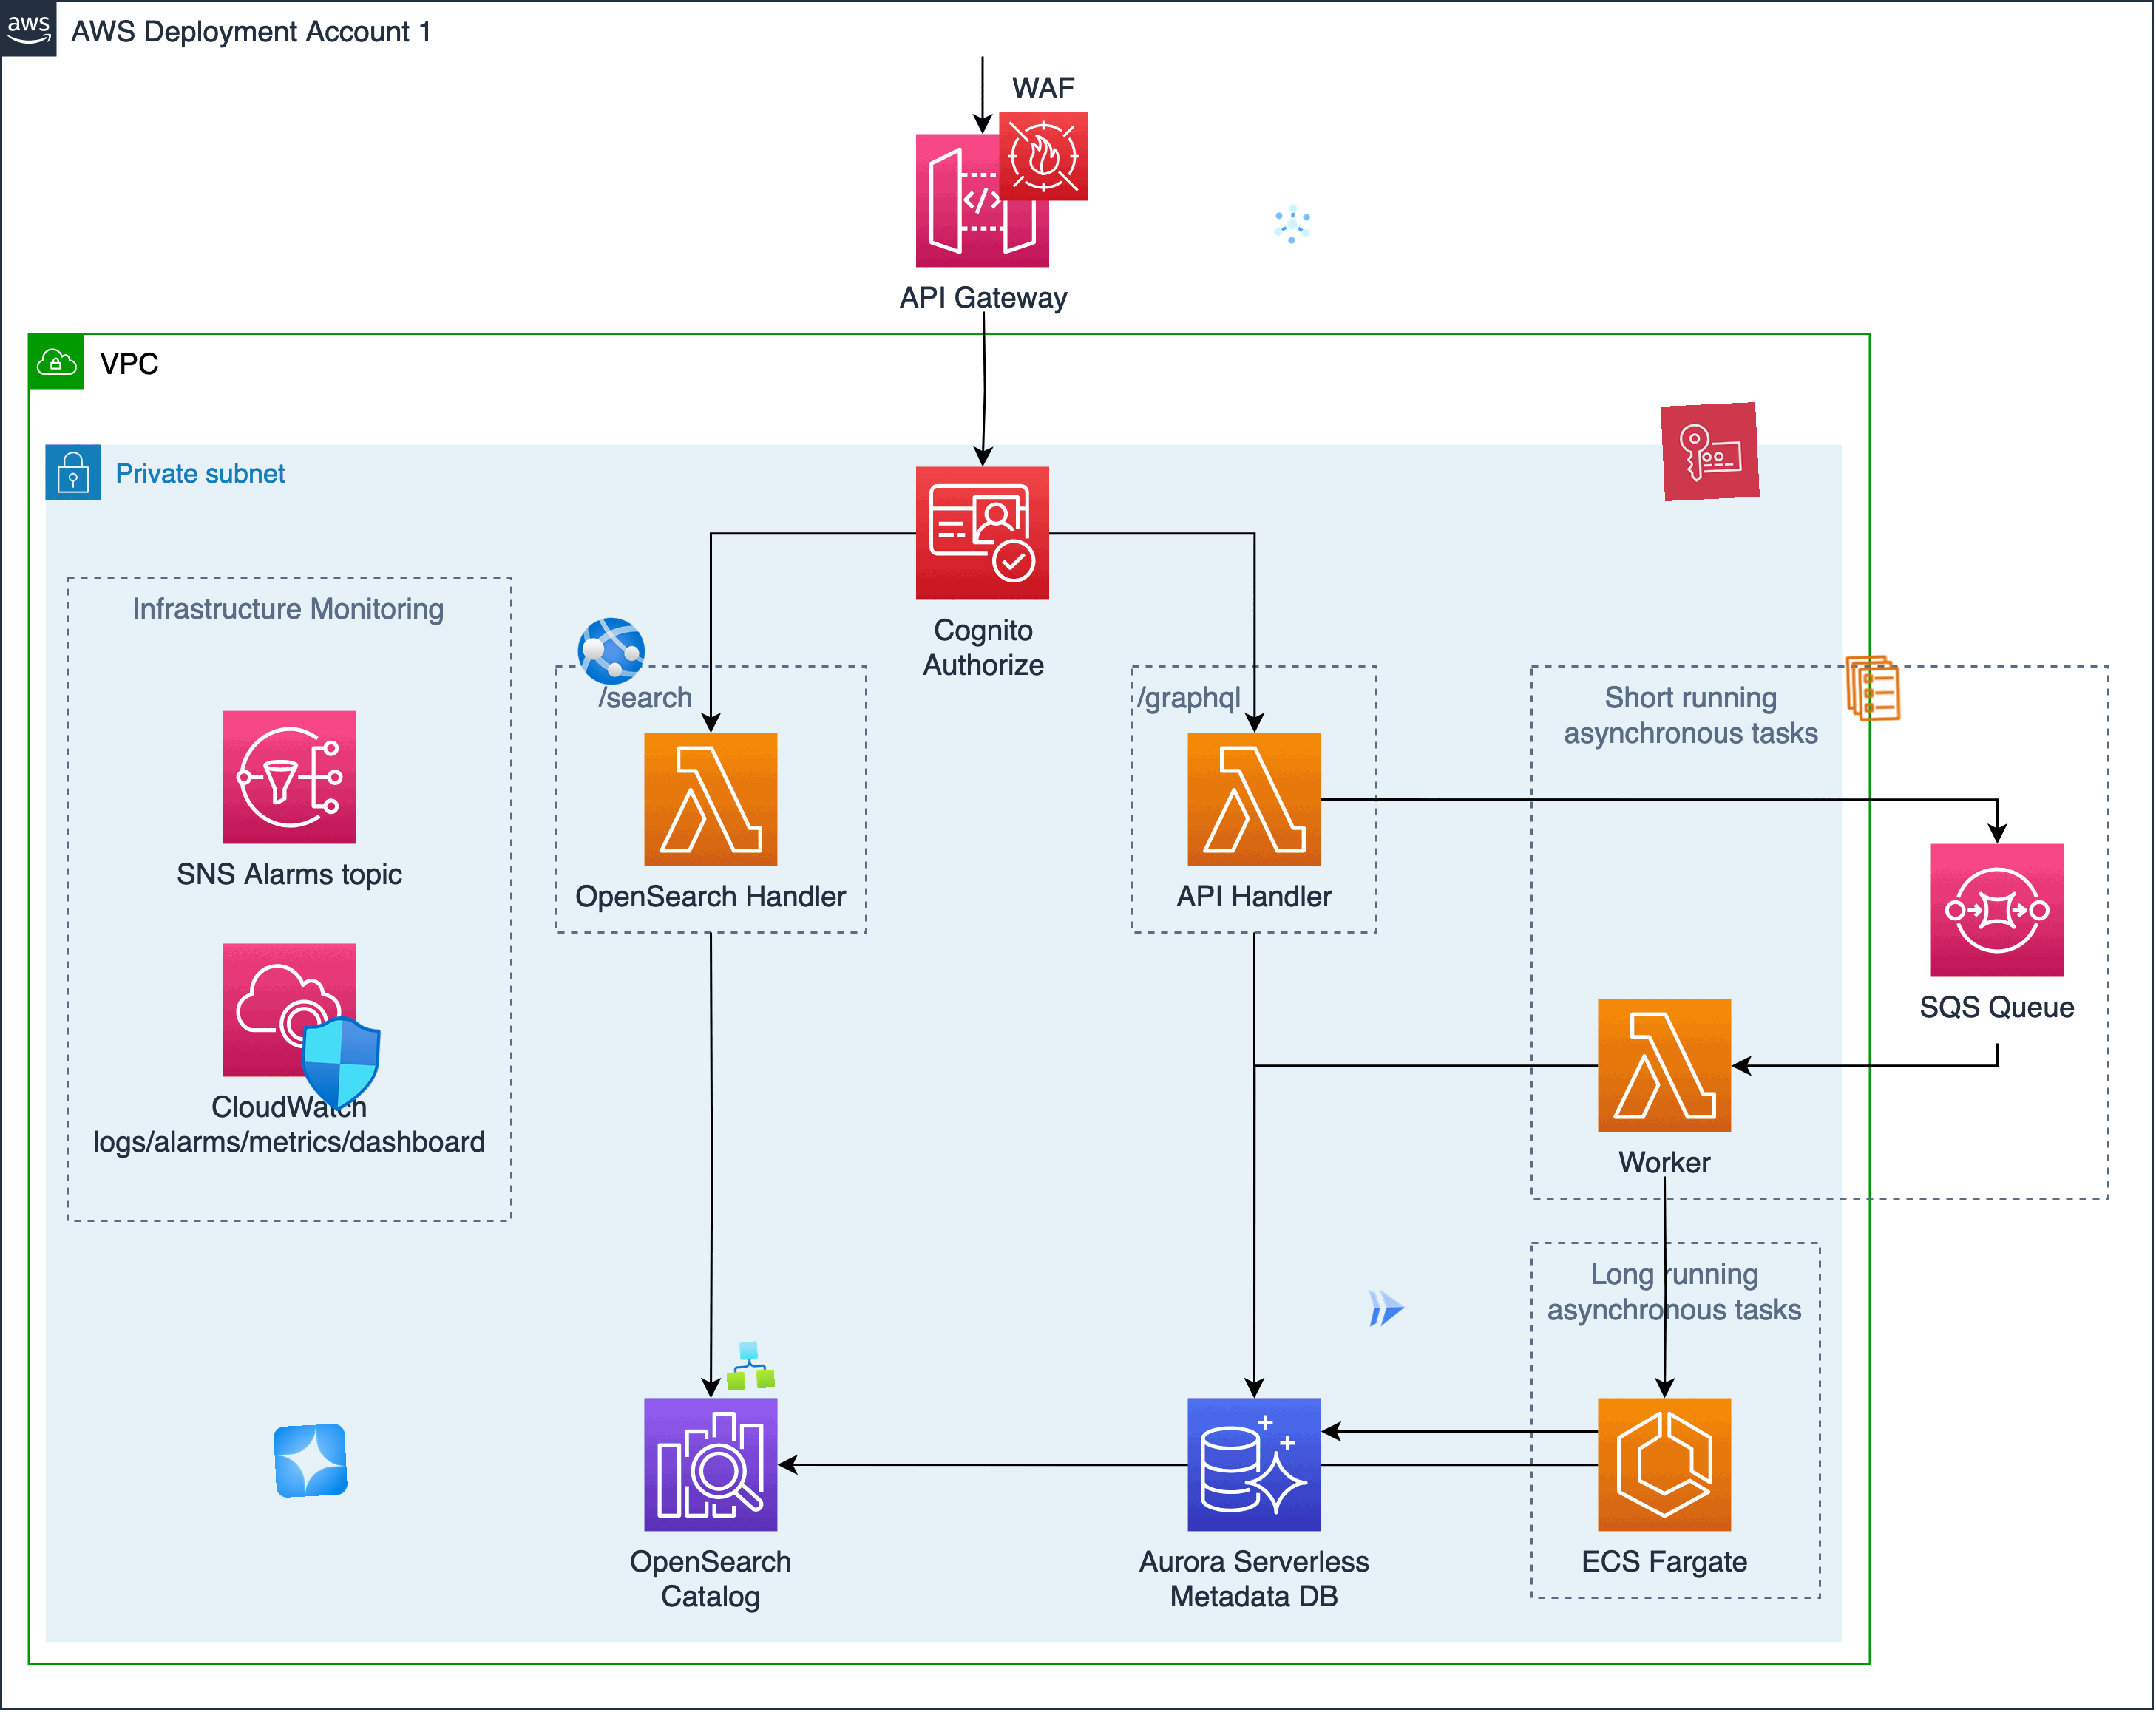aws_elastic_container_service_service: (1836, 651, 1911, 726)
aws_key_management_service: (1661, 402, 1760, 502)
azure_app_services: (574, 614, 649, 689)
azure_logic_apps: (724, 1340, 775, 1392)
azure_network_security_groups: (291, 1014, 390, 1114)
azure_openai: (273, 1423, 348, 1499)
gcp_cloud_run: (1362, 1282, 1412, 1333)
gcp_pubsub: (1267, 199, 1318, 248)
